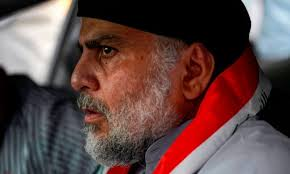middle_eastern_male: (73, 15, 184, 148)
